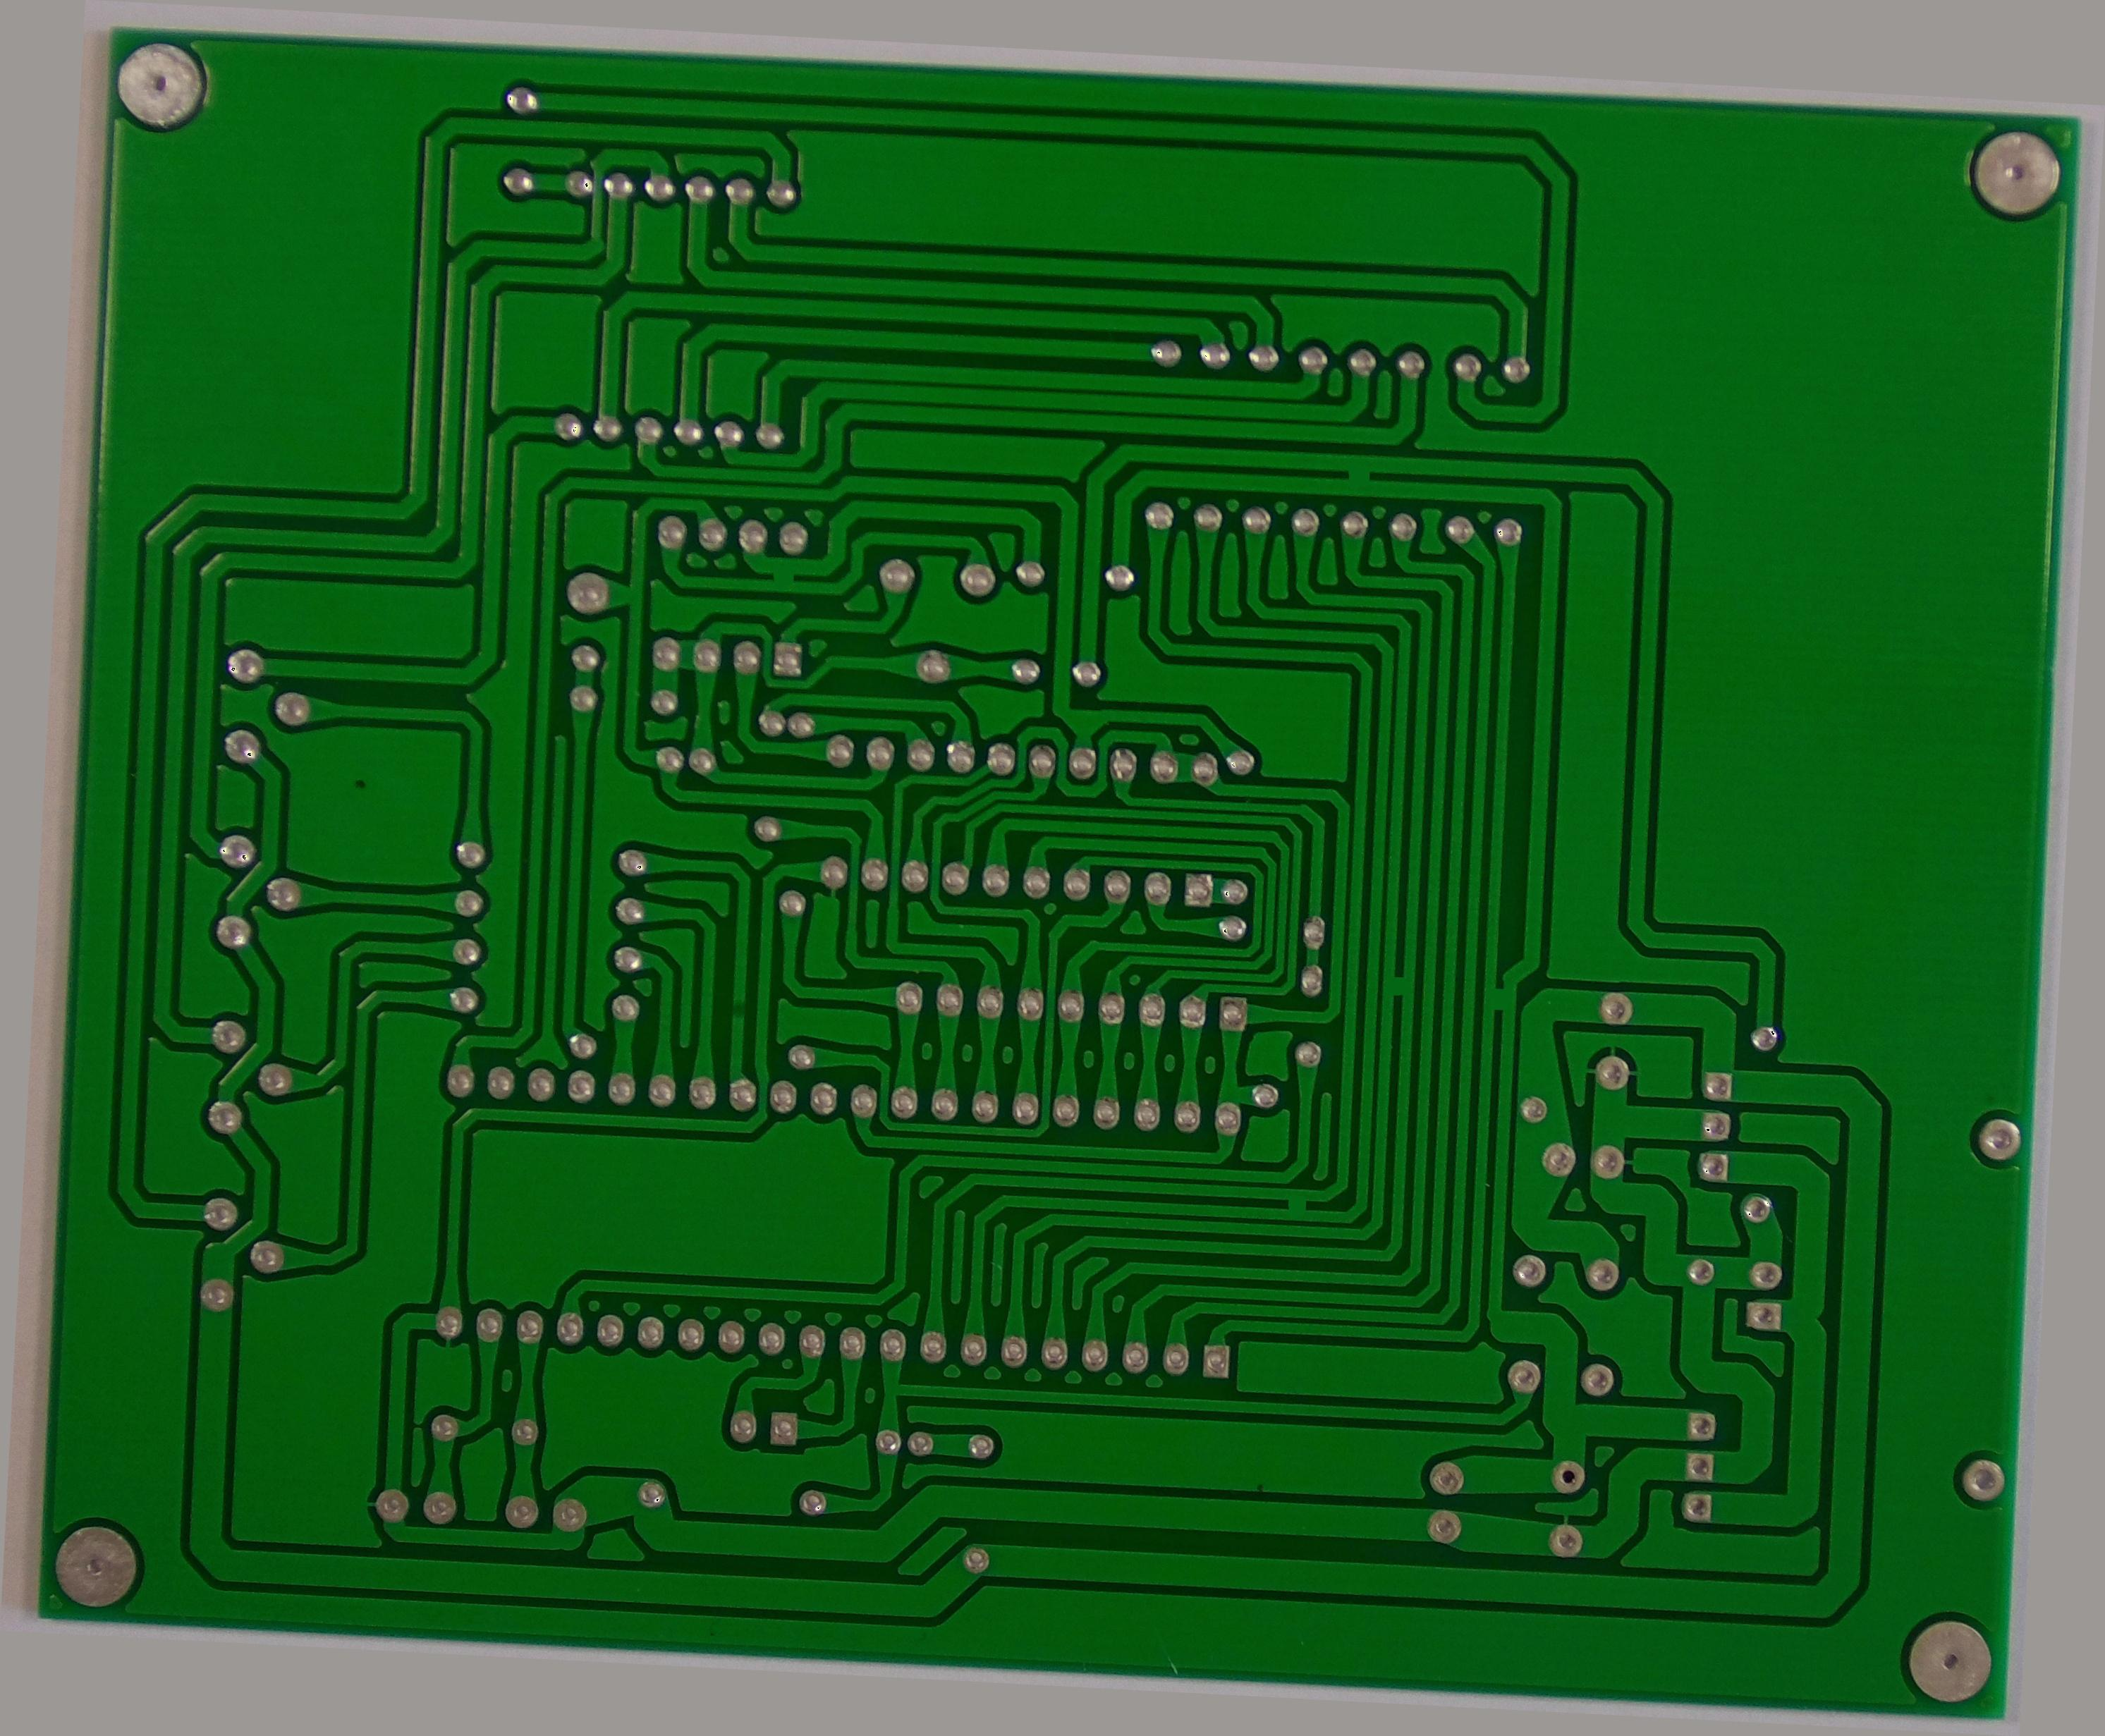short: (1329, 449, 1388, 502), (1268, 1182, 1325, 1229), (759, 551, 804, 600), (1374, 962, 1420, 1007), (1477, 979, 1526, 1019)
